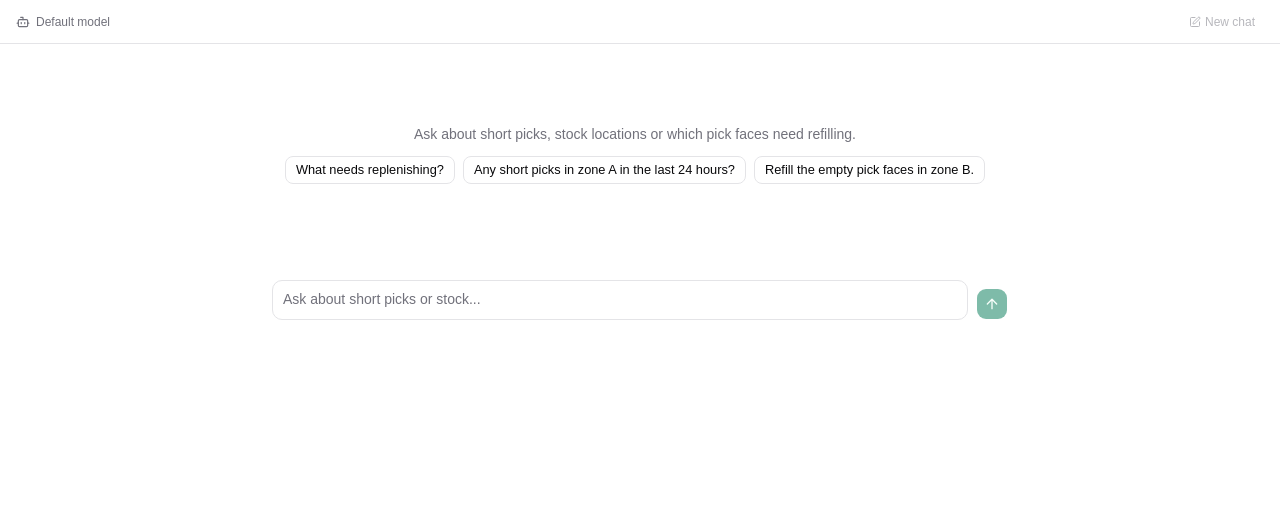
Test: Chat › asks for approval, then sends the decision with the supervisor name
The width and height of the screenshot is (1280, 526).
Type "Refill it" into the text box named "Message" at (620, 300), box [272,280,968,320]
Then press Enter
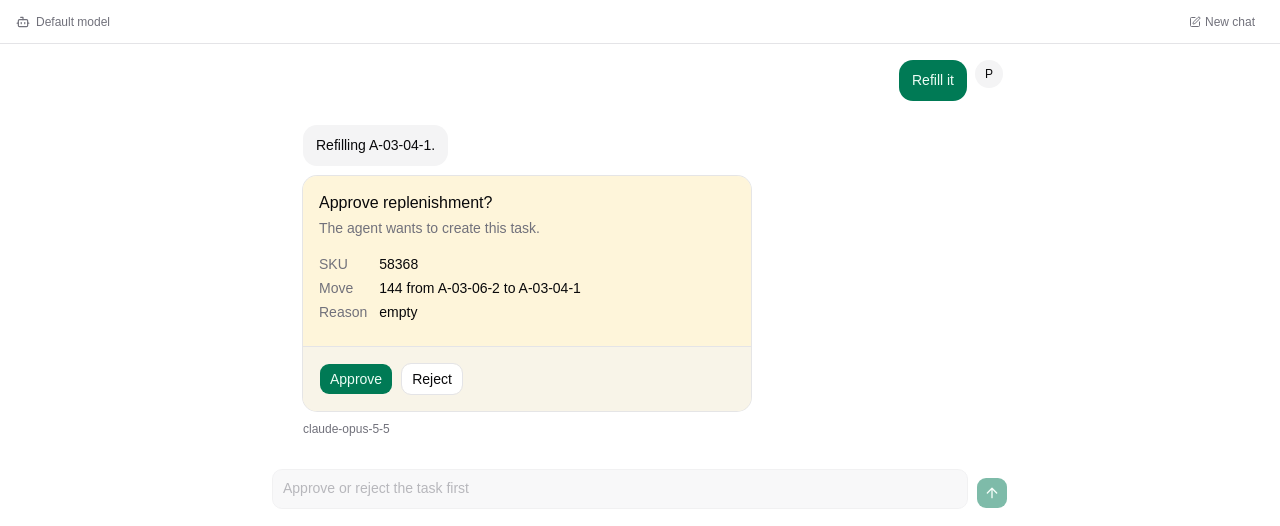
Click the button "Approve" at (356, 378), box [319,362,393,394]
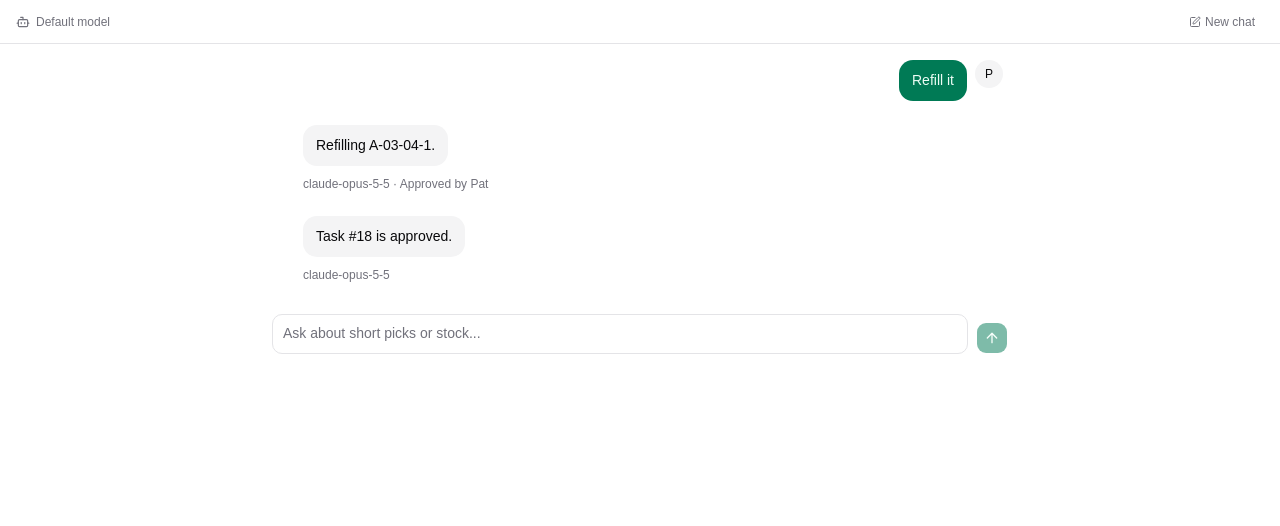
Expected: the text "Task #18 is approved." is shown, [316,224,452,247]
Expected: the text "claude-opus-5-5 · Approved by Pat" is shown, [303,176,488,190]
